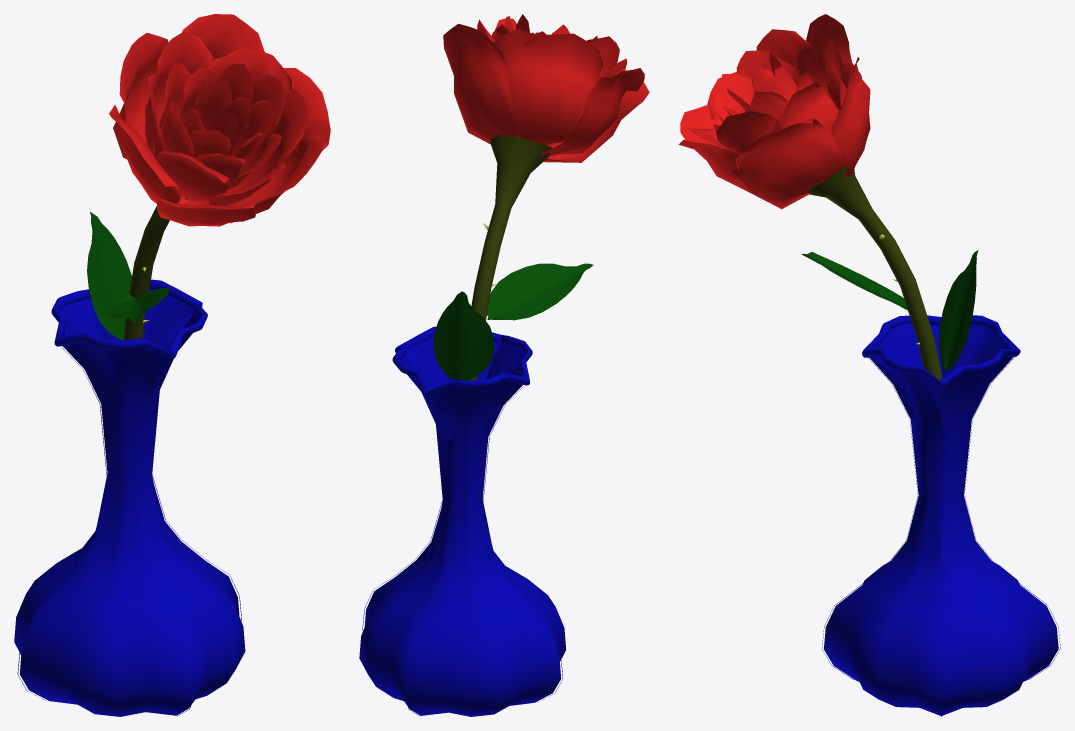
File: rose.obj
3 renders of one model, left to right at view 1: azimuth 30°, elevation 25°; view 2: azimuth 150°, elevation 25°; view 3: azimuth 270°, elevation 25°, orthographic. The views are drawn at different scales.
Parts seen in each view (by area): view 1: vase, rose_pedal, rose_leaf, bead, rose_stem; view 2: vase, rose_pedal, rose_leaf, rose_stem, bead; view 3: vase, rose_pedal, rose_stem, rose_leaf, bead.
Part boxes in pixels (x1,y1,x2,y2): vase: (14, 289, 245, 716); rose_pedal: (109, 14, 330, 226); rose_leaf: (87, 211, 169, 340); bead: (17, 279, 241, 716); rose_stem: (123, 197, 187, 340); vase: (359, 336, 566, 716); rose_pedal: (443, 14, 649, 162); rose_leaf: (433, 263, 592, 380); rose_stem: (469, 134, 552, 380); bead: (362, 326, 563, 715); vase: (824, 323, 1058, 715); rose_pedal: (678, 14, 870, 209); rose_stem: (806, 162, 942, 380); rose_leaf: (801, 250, 978, 371); bead: (822, 315, 1060, 716).
Size of the model in its own units: 40.23 by 120 by 64.82.
